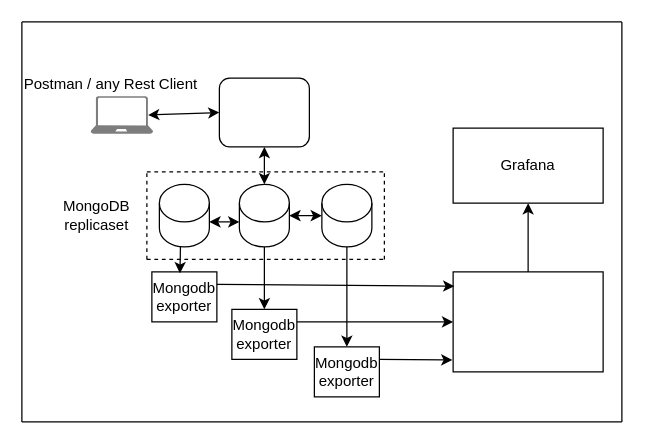
Some shapes in this 645 by 445 pixel diagram are drawn without their labels. The shapes that lost their labels are listed below. From the top down, each one's centre as x and y in pixels, then its label:
At (263,112): "Rest webservice".
At (527,321): "Prometheus".
